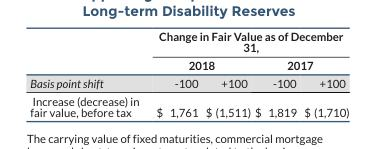table: (29, 28, 348, 118)
table column: (29, 28, 147, 118), (147, 28, 201, 118), (201, 28, 252, 118), (299, 28, 348, 118), (252, 28, 299, 118)
table column header: (29, 28, 348, 91)
table row: (29, 28, 348, 55), (29, 91, 348, 118), (29, 55, 348, 73), (29, 73, 348, 91)
table spanning cell: (29, 28, 147, 91), (147, 28, 348, 55), (147, 55, 252, 73), (252, 55, 348, 73)
